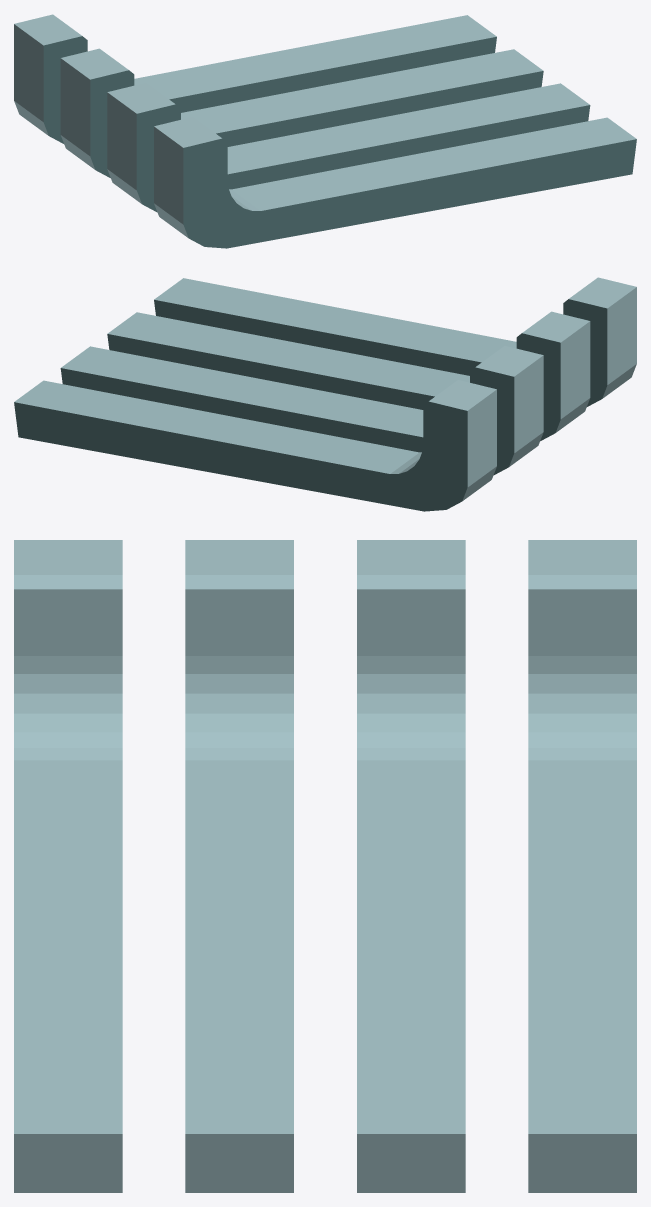
The model's file is GarageAreaGroundPillars.fbx.
3 views of the same model, one above another, from view 1: azimuth 30°, elevation 25°; view 2: azimuth 150°, elevation 25°; view 3: azimuth 270°, elevation 25° (orthographic). The views are drawn at different scales.
Visible parts, largest first — view 1: garage_ground_pillars; view 2: garage_ground_pillars; view 3: garage_ground_pillars.
Boxes of the visible parts, bbox=[...] form: garage_ground_pillars: bbox=[14, 14, 636, 248]; garage_ground_pillars: bbox=[14, 277, 636, 511]; garage_ground_pillars: bbox=[14, 540, 636, 1192].
Size of the model in its own units: 309 by 200 by 88.51.
